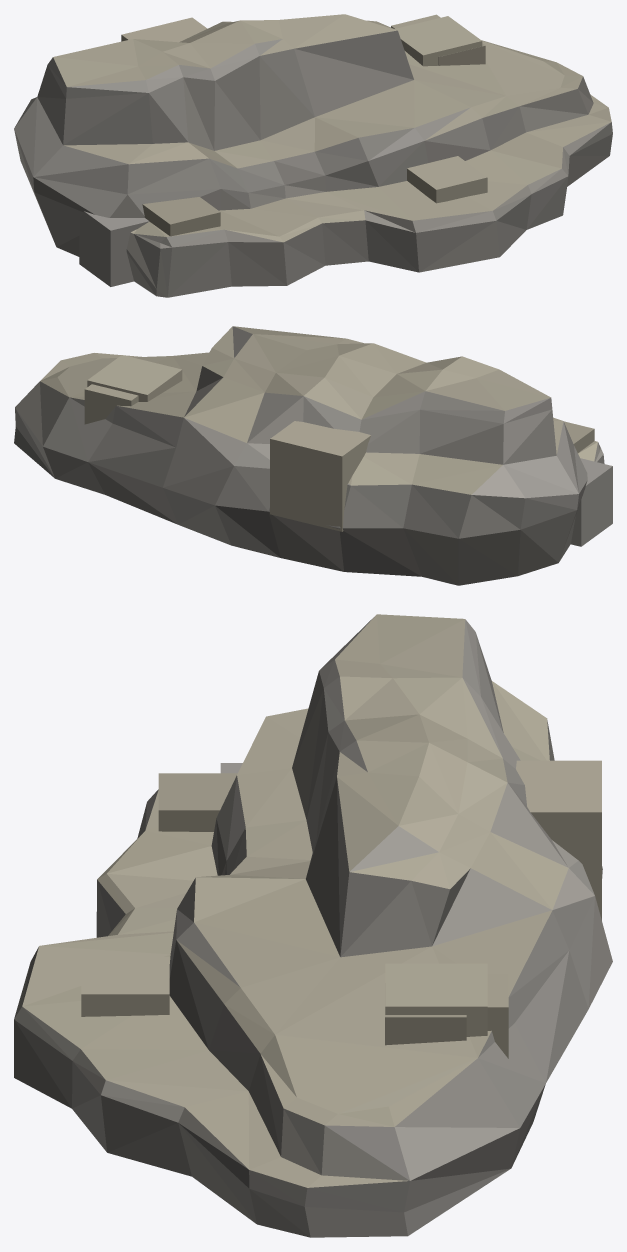
Rendered from clif_01d.glb.
3 renders of one model, top to bottom at view 1: azimuth 30°, elevation 25°; view 2: azimuth 150°, elevation 25°; view 3: azimuth 270°, elevation 25°, orthographic. The views are drawn at different scales.
Parts seen in each view (by area): view 1: mapa.roca.acantilado.env_clif_01d; view 2: mapa.roca.acantilado.env_clif_01d; view 3: mapa.roca.acantilado.env_clif_01d.
Part boxes in pixels (x1,y1,x2,y2): mapa.roca.acantilado.env_clif_01d: (14, 14, 612, 297); mapa.roca.acantilado.env_clif_01d: (14, 326, 612, 585); mapa.roca.acantilado.env_clif_01d: (14, 614, 612, 1237).
Size of the model in its own units: 76.82 by 22.79 by 48.44.
